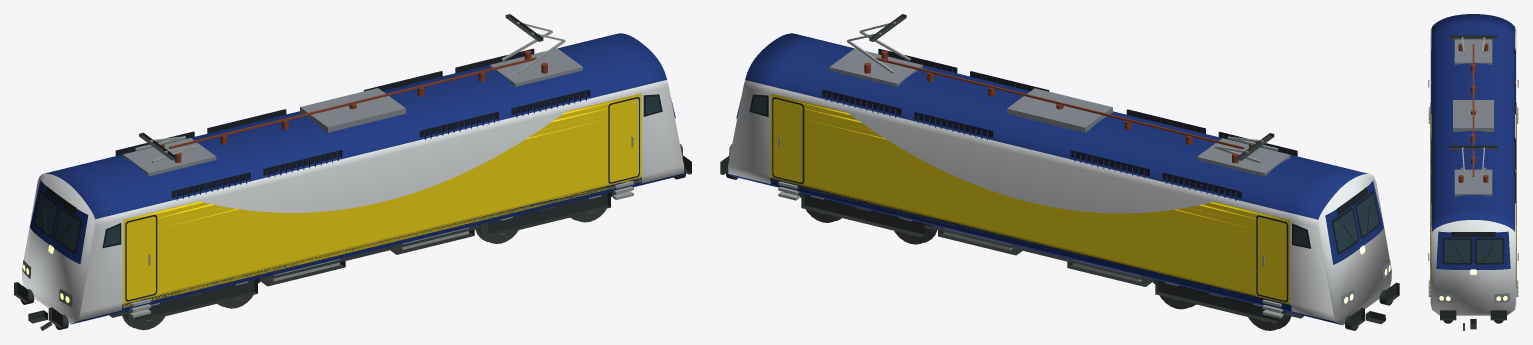
The model's file is metronom-br146.glb.
3 views of the same model, side by side, from view 1: azimuth 30°, elevation 25°; view 2: azimuth 150°, elevation 25°; view 3: azimuth 270°, elevation 25° (orthographic). The views are drawn at different scales.
Visible parts, largest first — view 1: br146_continuous_shell, br146_yellow_sweep_-1, br146_blue_sill_-1, br146_roof_transformer, br146_door_leaf_-1_-1, br146_door_leaf_-1_1, br146_bogie_1_sideframe_-1, br146_pantograph_raised_base, br146_bogie_0_sideframe_-1, br146_pantograph_folded_base, br146_high_voltage_bus, br146_front_blue_visor_-1 (+10 smaller); view 2: br146_continuous_shell, br146_yellow_sweep_1, br146_blue_sill_1, br146_roof_transformer, br146_bogie_1, br146_bogie_0, br146_door_leaf_1_1, br146_door_leaf_1_-1, br146_pantograph_raised_base, br146_pantograph_folded_base, br146_high_voltage_bus, br146_front_blue_visor_-1 (+10 smaller); view 3: br146_continuous_shell, br146_roof_transformer, br146_front_blue_visor_1, br146_pantograph_raised_base, br146_pantograph_folded_base, br146_windscreen_glass_1_1, br146_windscreen_glass_1_-1, br146_high_voltage_bus, br146_destination_1, br146_windscreen_seal_1_1, br146_windscreen_seal_1_-1, br146_pantograph_raised_collector (+7 smaller).
Boxes of the visible parts, left/top/right/bottom form: br146_continuous_shell: left=22, top=33, right=683, bottom=324; br146_yellow_sweep_-1: left=123, top=93, right=641, bottom=307; br146_blue_sill_-1: left=120, top=177, right=641, bottom=311; br146_roof_transformer: left=300, top=88, right=405, bottom=132; br146_door_leaf_-1_-1: left=126, top=216, right=155, bottom=299; br146_door_leaf_-1_1: left=609, top=98, right=638, bottom=182; br146_bogie_1_sideframe_-1: left=488, top=193, right=610, bottom=236; br146_pantograph_raised_base: left=489, top=48, right=582, bottom=86; br146_bogie_0_sideframe_-1: left=135, top=279, right=257, bottom=322; br146_pantograph_folded_base: left=123, top=138, right=216, bottom=176; br146_high_voltage_bus: left=169, top=57, right=536, bottom=148; br146_front_blue_visor_-1: left=30, top=180, right=88, bottom=263; br146_continuous_shell: left=728, top=33, right=1391, bottom=325; br146_yellow_sweep_1: left=770, top=93, right=1290, bottom=304; br146_blue_sill_1: left=770, top=178, right=1292, bottom=312; br146_roof_transformer: left=1007, top=88, right=1112, bottom=132; br146_bogie_1: left=801, top=193, right=937, bottom=244; br146_bogie_0: left=1155, top=279, right=1291, bottom=330; br146_door_leaf_1_1: left=773, top=99, right=802, bottom=182; br146_door_leaf_1_-1: left=1257, top=217, right=1286, bottom=300; br146_pantograph_raised_base: left=829, top=48, right=922, bottom=86; br146_pantograph_folded_base: left=1197, top=138, right=1290, bottom=176; br146_high_voltage_bus: left=876, top=57, right=1244, bottom=149; br146_front_blue_visor_-1: left=1325, top=180, right=1383, bottom=264; br146_continuous_shell: left=1430, top=14, right=1516, bottom=315; br146_roof_transformer: left=1453, top=100, right=1493, bottom=131; br146_front_blue_visor_1: left=1436, top=231, right=1510, bottom=269; br146_pantograph_raised_base: left=1454, top=169, right=1492, bottom=196; br146_pantograph_folded_base: left=1454, top=39, right=1492, bottom=64; br146_windscreen_glass_1_1: left=1476, top=239, right=1502, bottom=262; br146_windscreen_glass_1_-1: left=1444, top=239, right=1470, bottom=262; br146_high_voltage_bus: left=1472, top=44, right=1474, bottom=176; br146_destination_1: left=1451, top=232, right=1495, bottom=237; br146_windscreen_seal_1_1: left=1474, top=238, right=1504, bottom=264; br146_windscreen_seal_1_-1: left=1442, top=238, right=1472, bottom=264; br146_pantograph_raised_collector: left=1449, top=145, right=1497, bottom=149.
Size of the model in its own units: 19 by 5.54 by 3.13.
